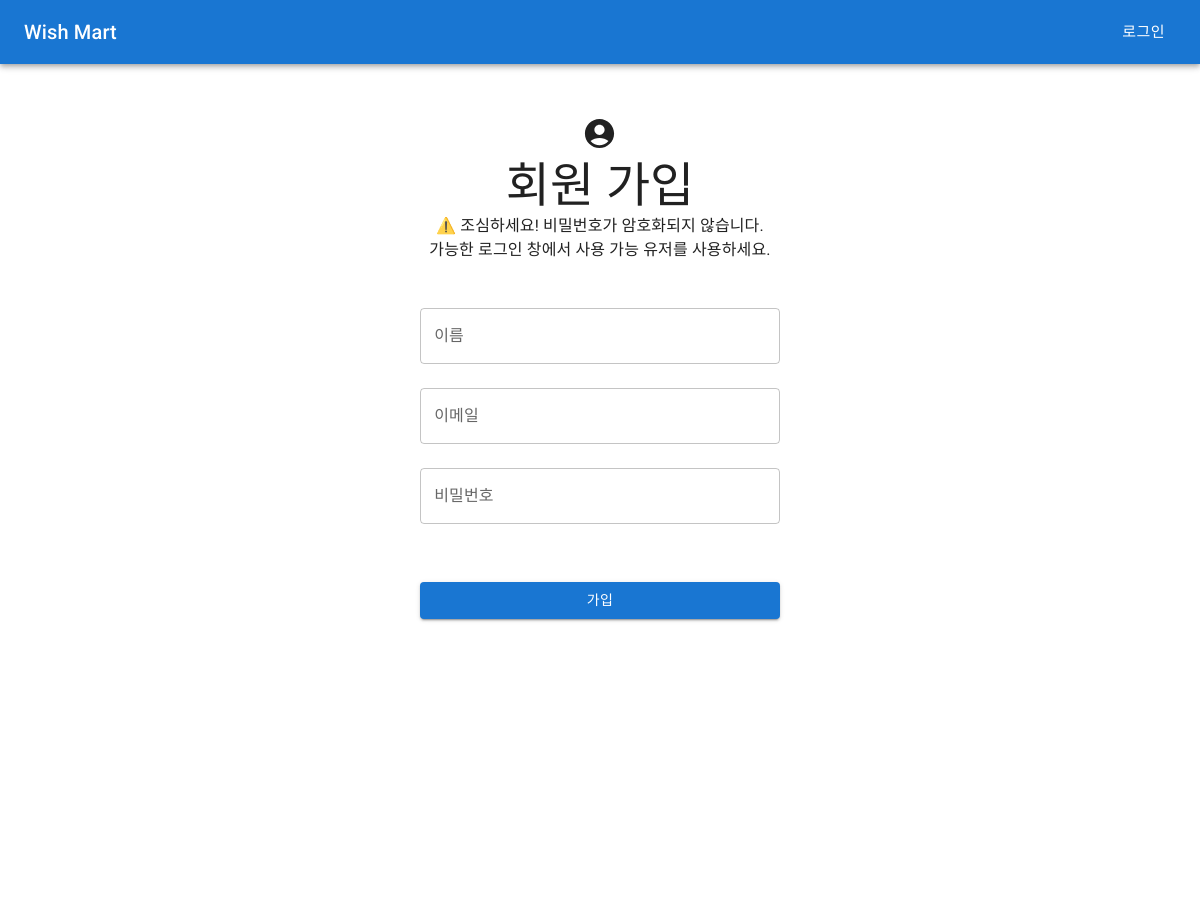
Test case: 성공적으로 회원 가입이 완료되었을 경우 "가입 성공!"문구가 노출되며 로그인 페이지로 이동한다
Type "hanjung" into the field labelled "이름". click: (600, 336)
box: [420,308,780,364]
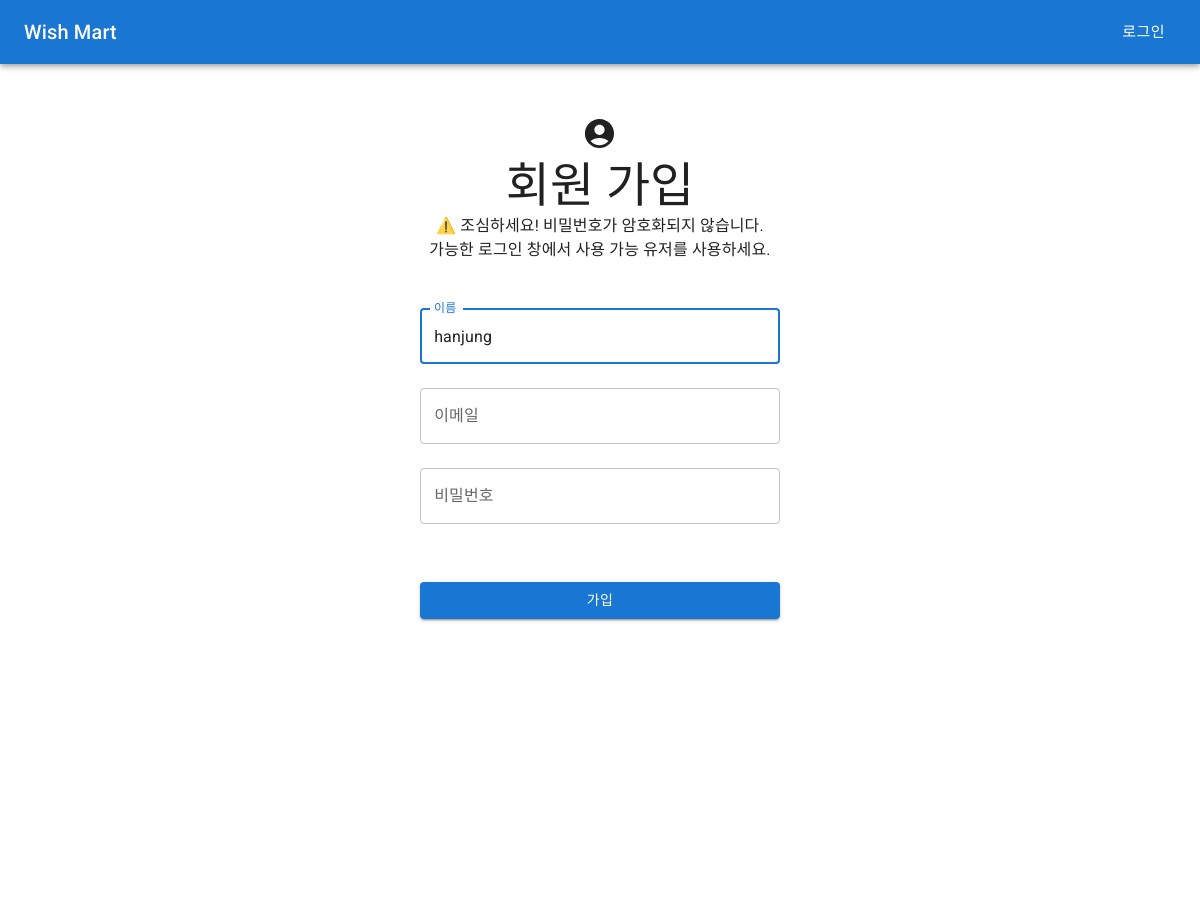
Type "han@email.com" into the field labelled "이메일". click: (600, 416)
box: [420,388,780,444]
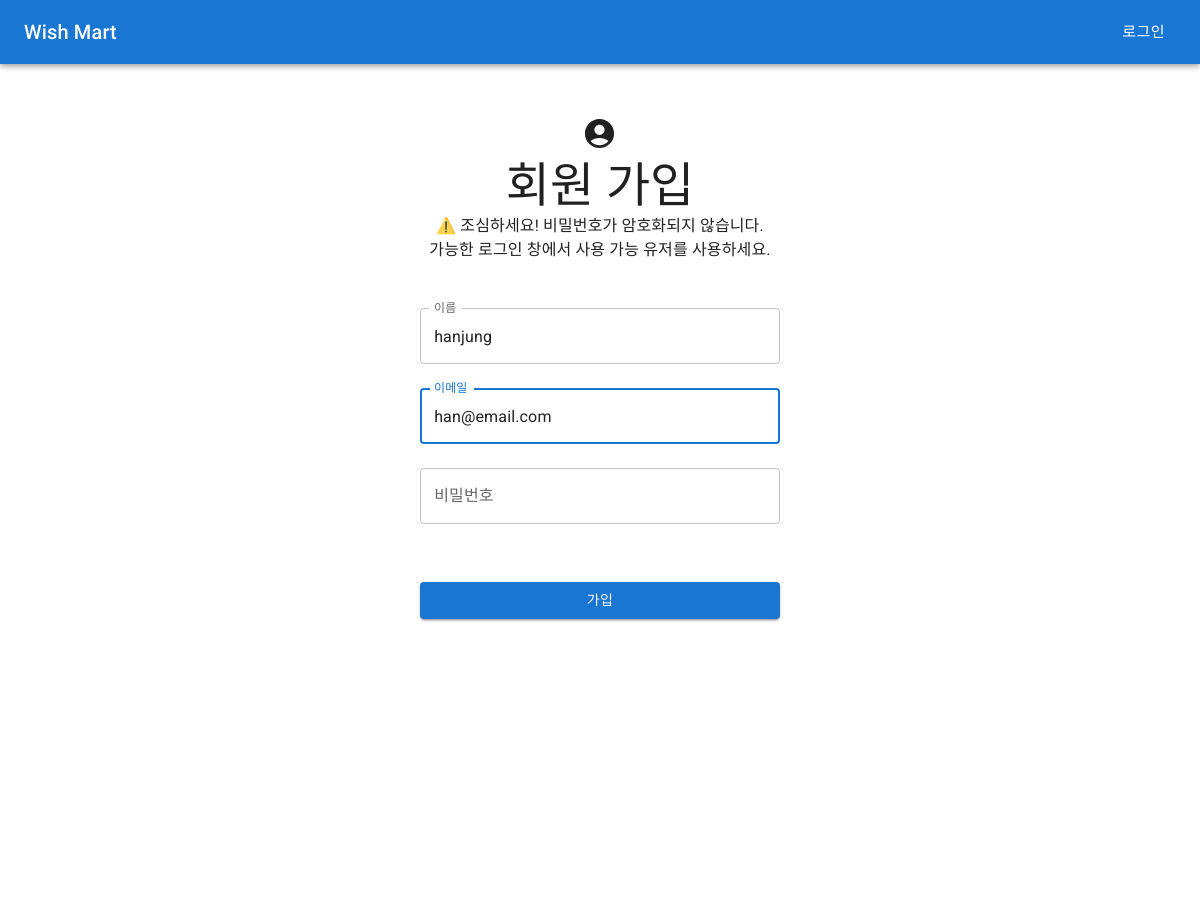
Type "password123" into the password field labelled "비밀번호". click: (600, 496)
box: [420,468,780,524]
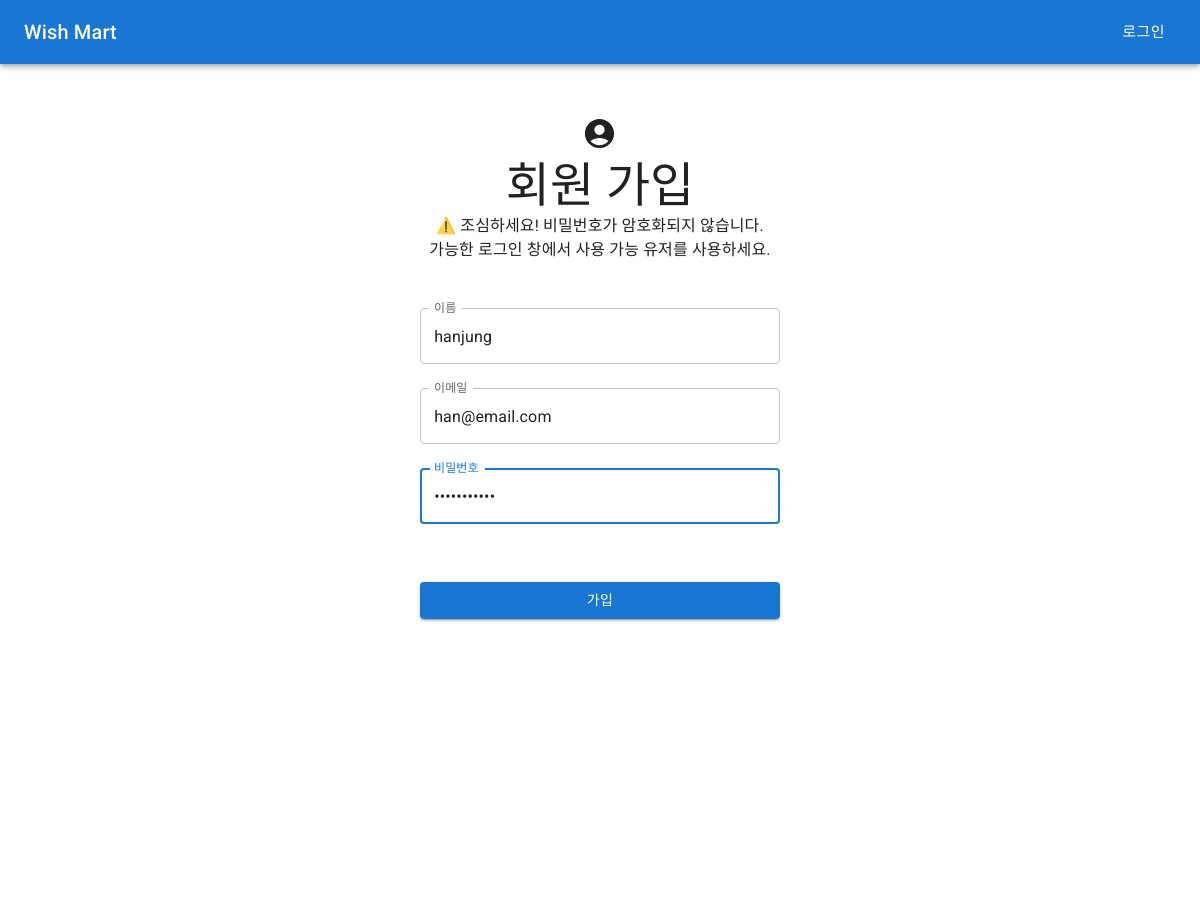
Click the button "가입". click: (600, 601)
box: [420,582,780,619]
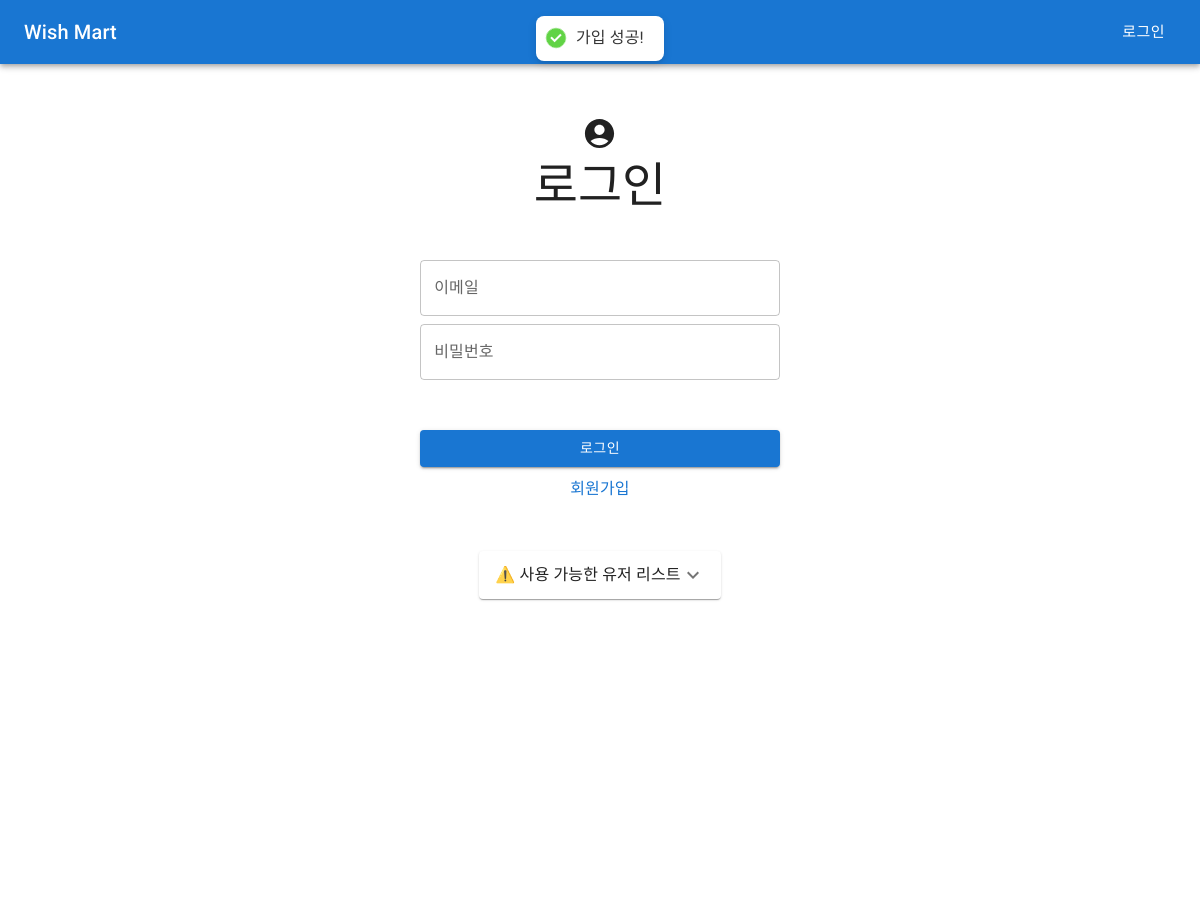
Expected: the text "가입 성공!" is shown, [576,28,644,49]
